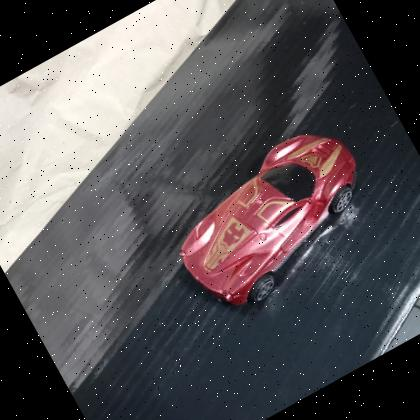Car: (180, 135, 357, 306)
